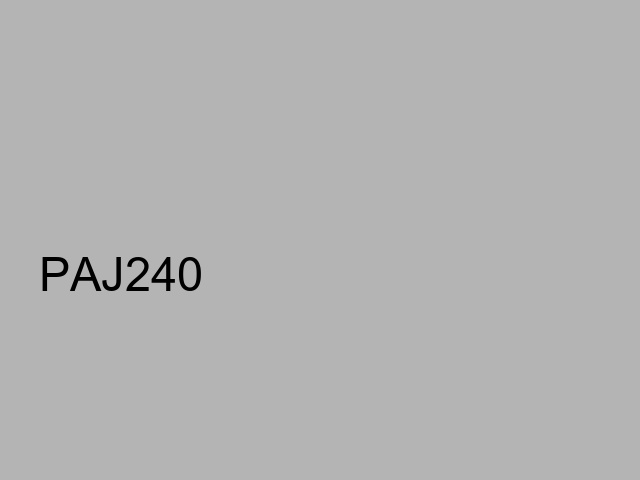OCR_AREA: (35, 253, 207, 295)
